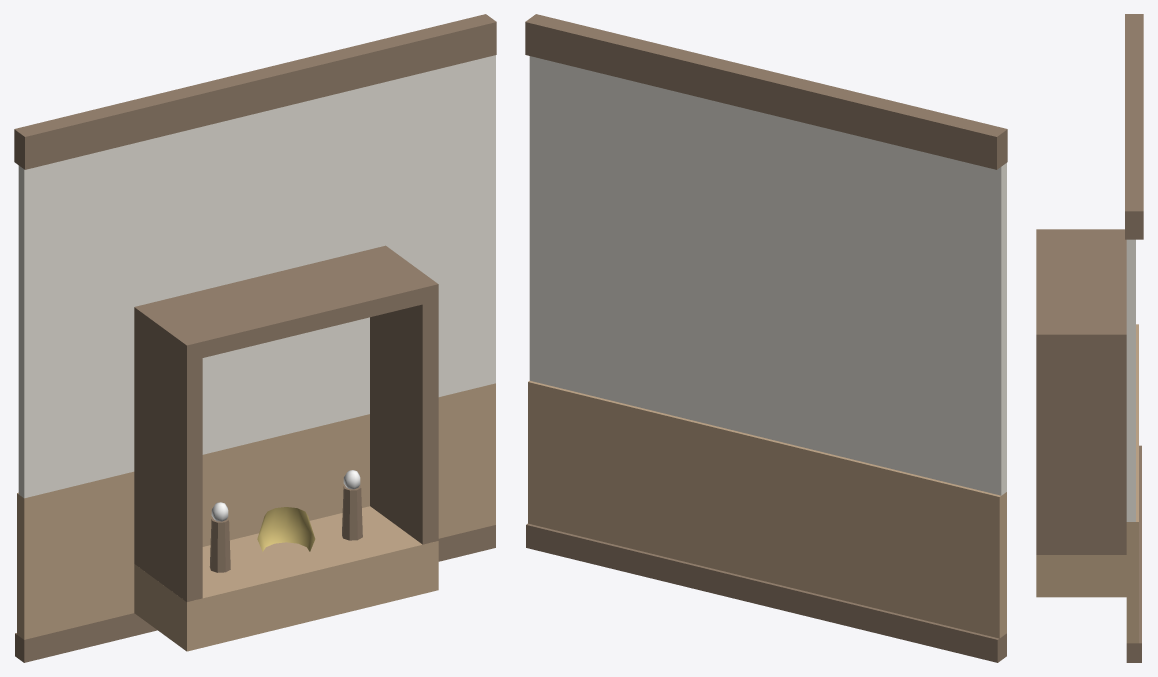
File: martial-arts-dojo-and-fight-stages-shrine-alcove-d179d34a__18063.glb
3 renders of one model, left to right at view 1: azimuth 30°, elevation 25°; view 2: azimuth 150°, elevation 25°; view 3: azimuth 270°, elevation 25°, orthographic. The views are drawn at different scales.
Visible parts, largest first — view 1: shrine-alcove; view 2: shrine-alcove; view 3: shrine-alcove.
Boxes of the visible parts, box(x1,y1,x2,y2) form: shrine-alcove: box(14, 14, 496, 662); shrine-alcove: box(525, 14, 1007, 662); shrine-alcove: box(1036, 14, 1143, 662).
Bounding box in the file's own units: 3 × 3.2 × 0.6899.
